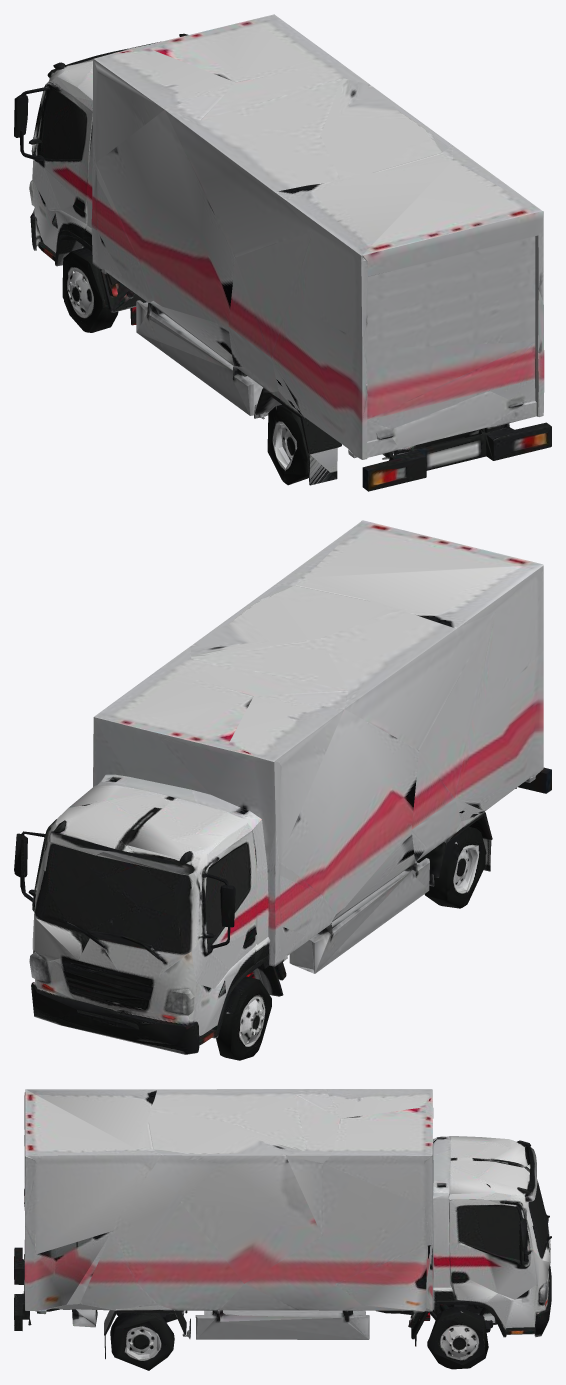
The model's file is teleopVehBoxTruck.8cf91d05.glb.
The picture shows the model from 3 angles, top to bottom: view 1: azimuth 30°, elevation 25°; view 2: azimuth 150°, elevation 25°; view 3: azimuth 270°, elevation 25°; orthographic projection. The views are drawn at different scales.
Visible parts, largest first — view 1: output_unwrapped; view 2: output_unwrapped; view 3: output_unwrapped.
Boxes of the visible parts, x1=… form: output_unwrapped: x1=14, y1=14, x2=551, y2=491; output_unwrapped: x1=14, y1=520, x2=551, y2=1060; output_unwrapped: x1=14, y1=1089, x2=551, y2=1370.
Size of the model in its own units: 0.6786 by 0.8458 by 1.9.
1 material, 1 textured.
